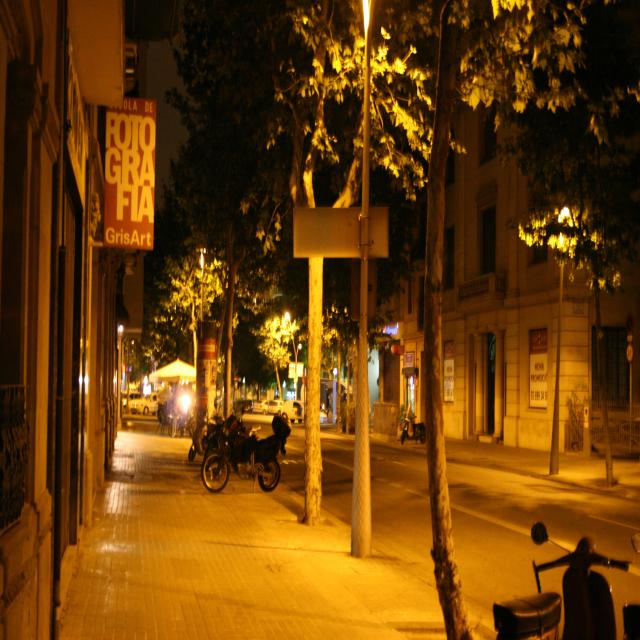Motorbike: (485, 523, 639, 640), (187, 410, 291, 496)
